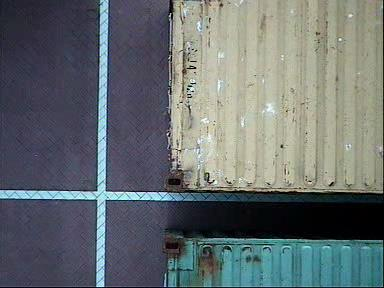groundmarker_2: (158, 74, 227, 108), (195, 205, 228, 273)
